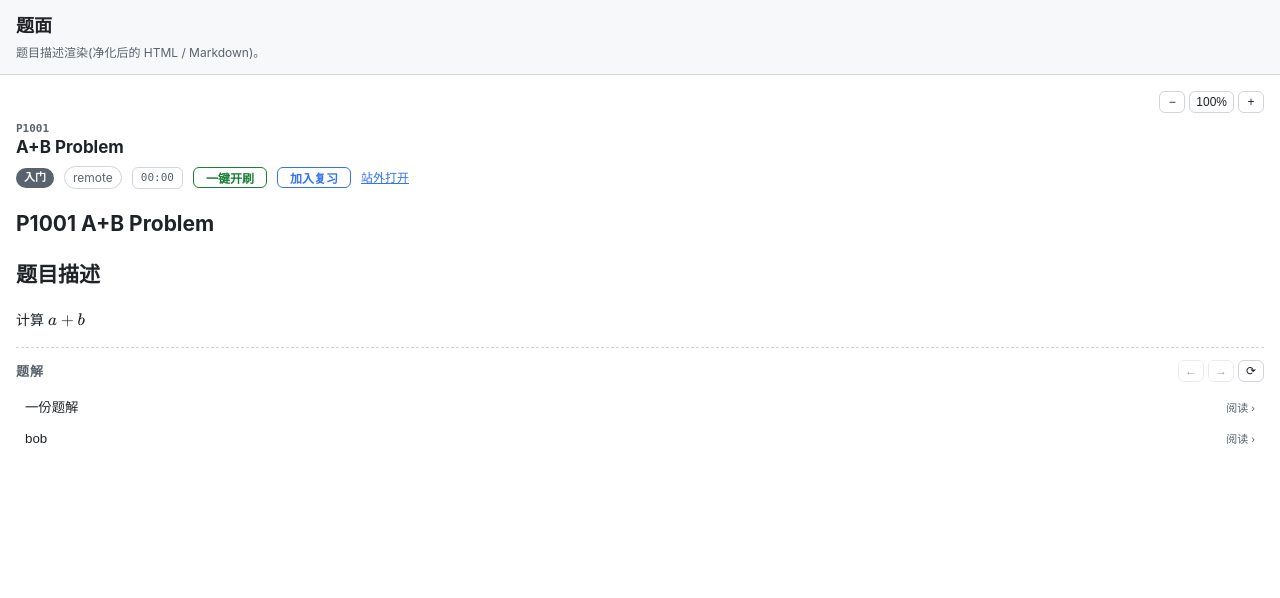
Test case: problem-view solution reader (WP31) › truncates forward history when opening a new article after back
This screenshot has width=1280, height=598.
What coordinates should you click on to do the following:
click the button with class "solutions__open" showing "一份题解 阅读 ›"
I would click on:
 (52, 408)
Its box is [16,392,1264,421].
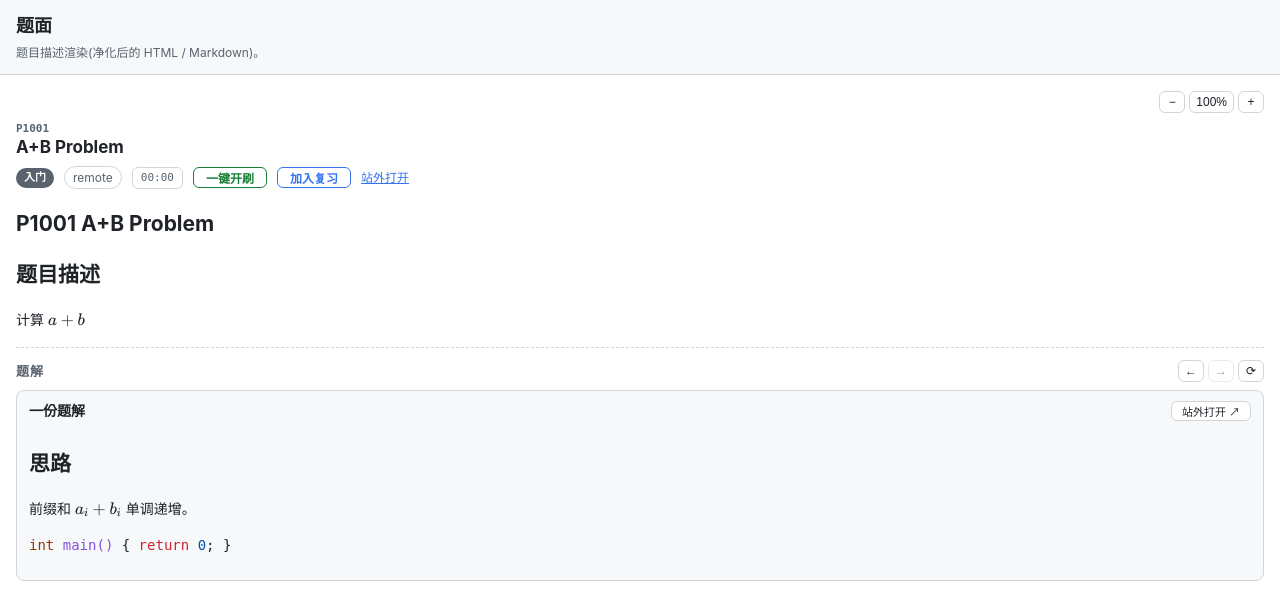
What coordinates should you click on to do the following:
click the button with class "solutions__nav-btn" showing "←"
I would click on:
 (1191, 371)
Its box is [1178,360,1204,382].
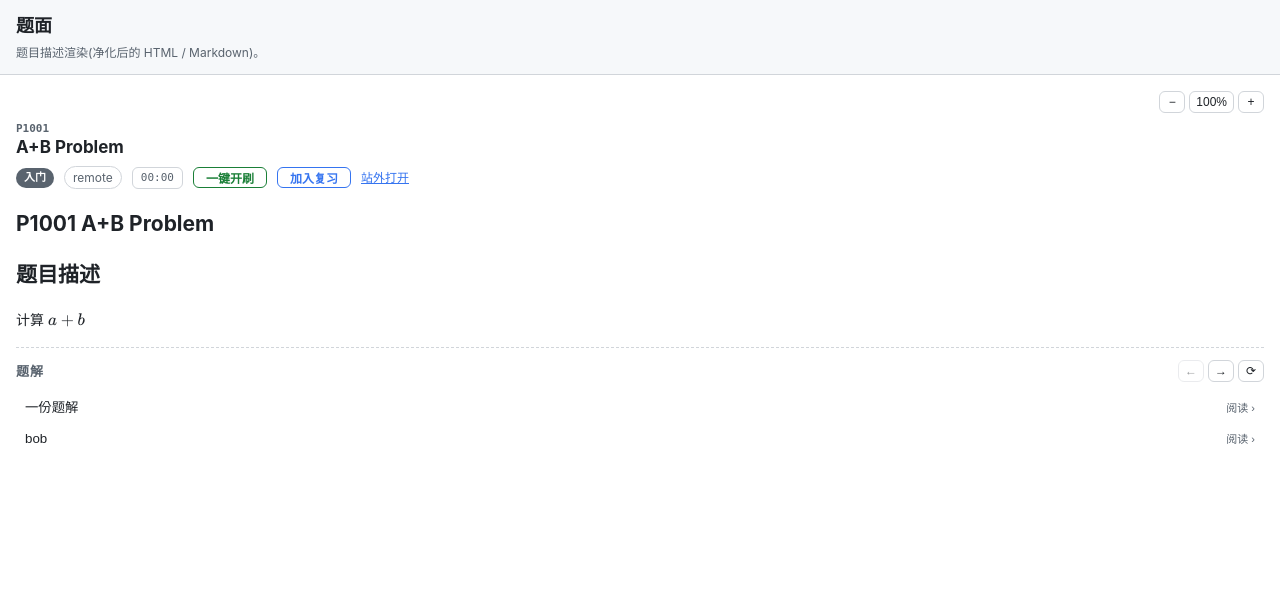
What coordinates should you click on to do the following:
click the button with class "solutions__open" showing "bob 阅读 ›"
I would click on:
 (36, 438)
Its box is [16,425,1264,451].
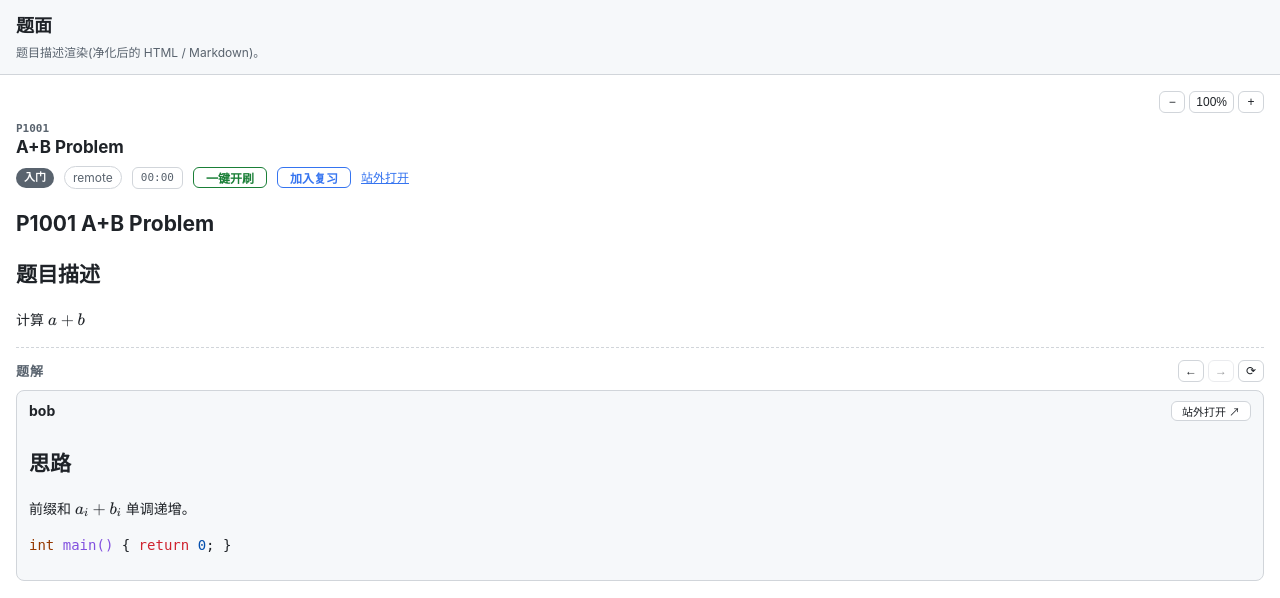
Check: the heading with class "reader__title" reads "bob", box [29,402,55,419]
Check: the button with class "solutions__nav-btn" showing "→" is disabled, box [1208,360,1234,382]
